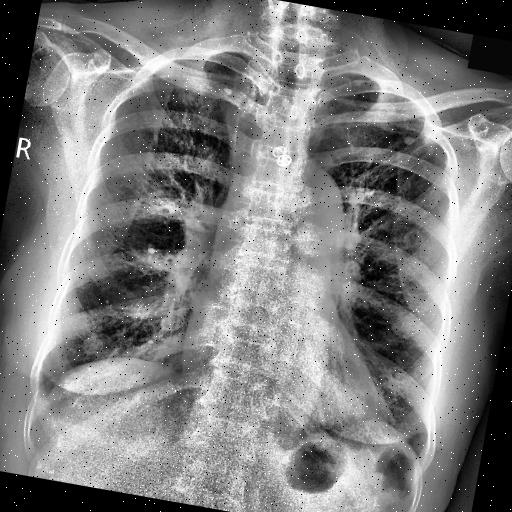0- Aortic enlargement: (214, 154, 350, 268), (278, 156, 354, 246)
11- Pleural thickening: (416, 111, 445, 148)
13- Pulmonary fibrosis: (395, 118, 440, 166), (401, 134, 433, 167), (412, 126, 438, 159)
2- Calcification: (222, 85, 233, 96)
3- Cardiomegaly: (170, 318, 393, 438)
8- Nodule-Mass: (80, 334, 102, 360), (82, 334, 100, 356), (400, 134, 416, 146), (402, 135, 415, 145), (402, 134, 414, 144)
9- Other lesion: (395, 118, 440, 166)
